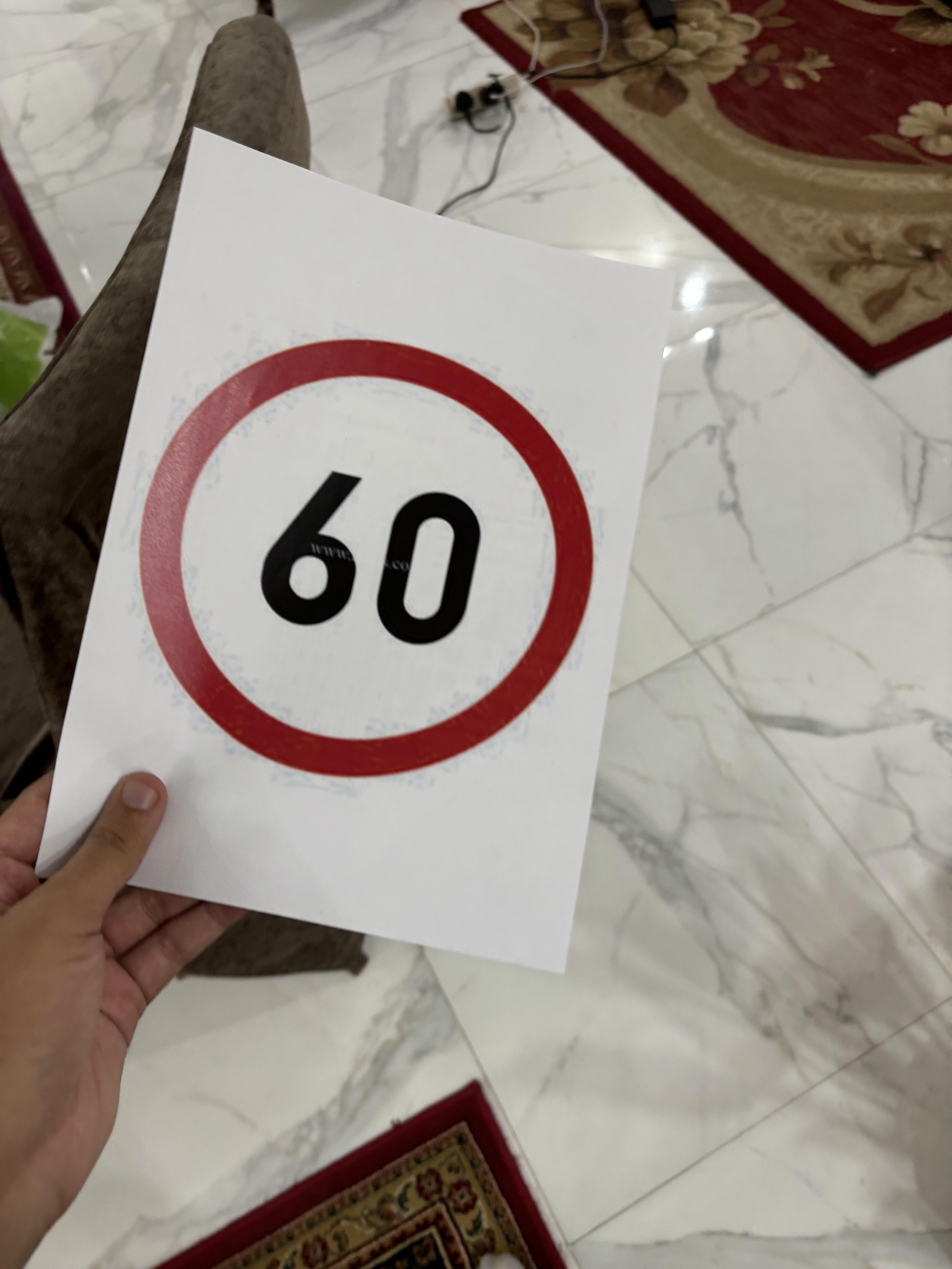60-Speed: (140, 331, 609, 785)
